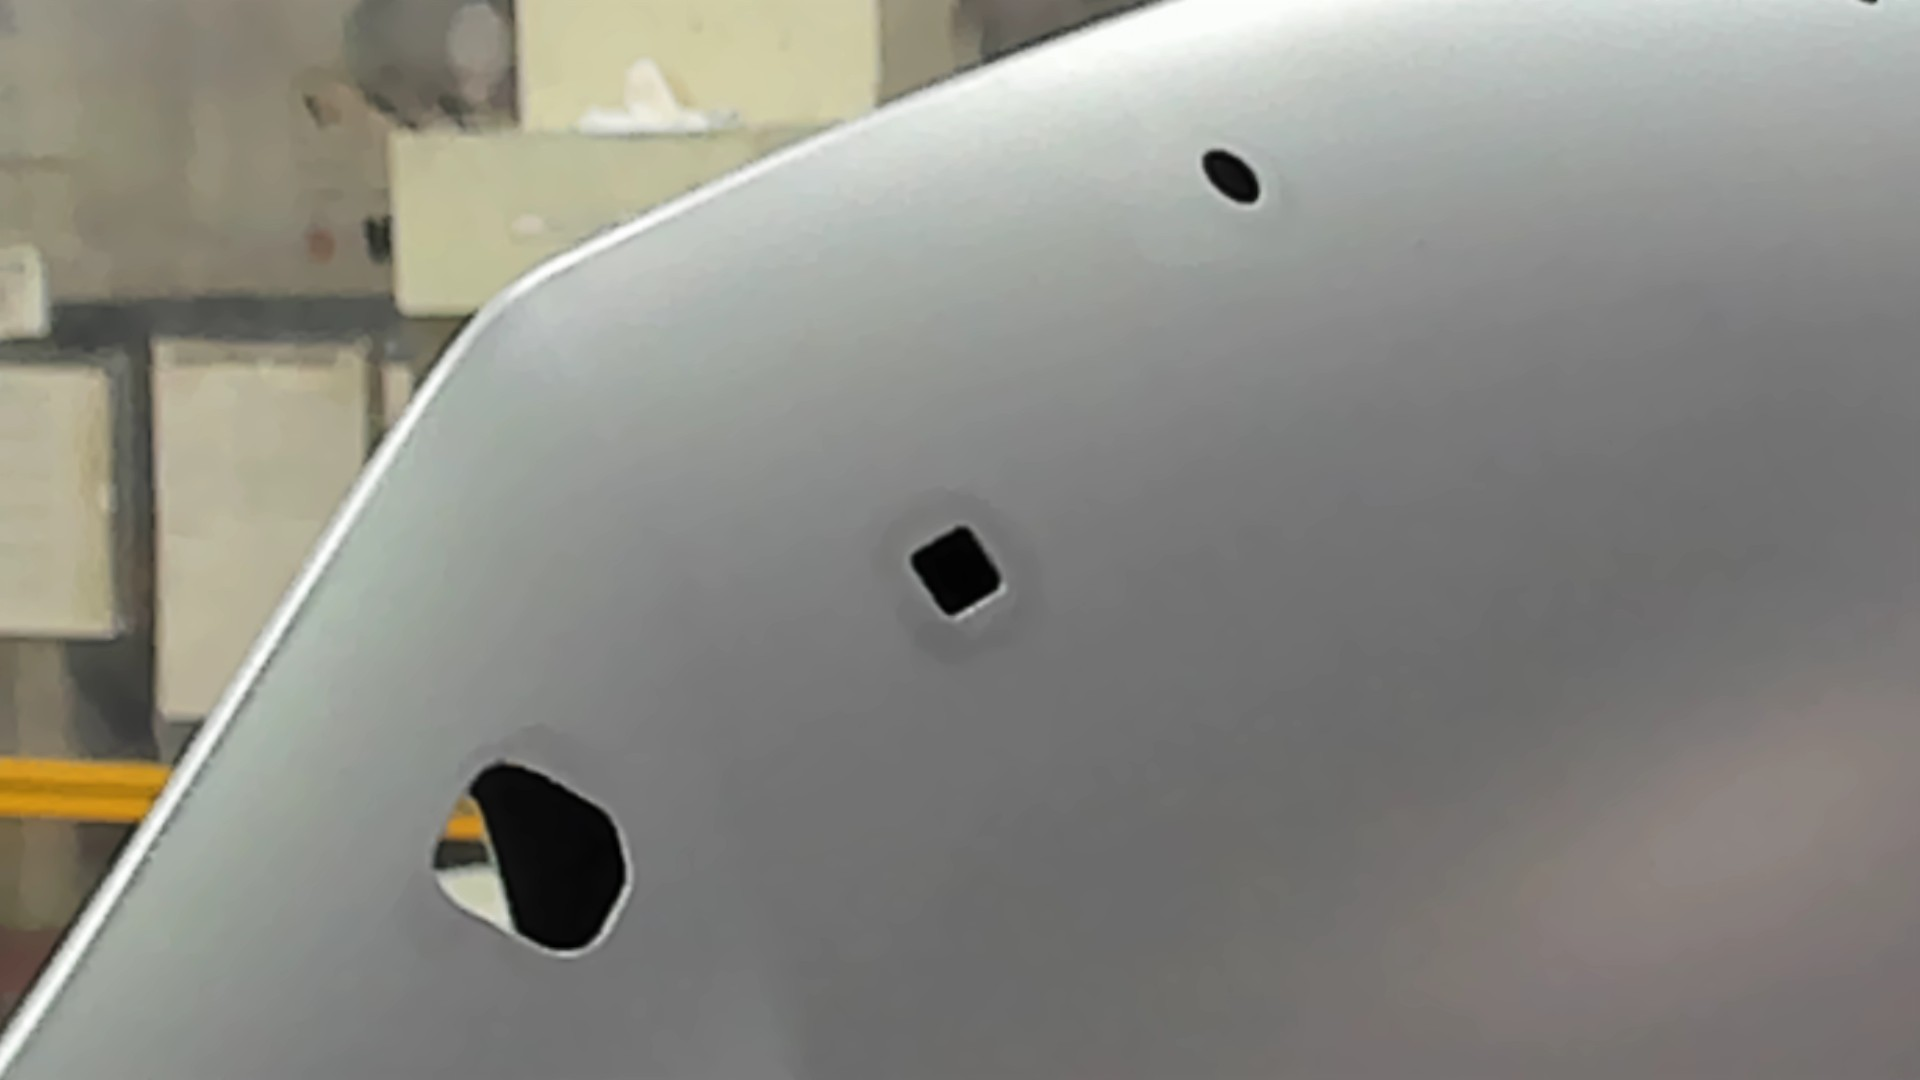chico: (1193, 140, 1266, 214)
grande: (427, 756, 637, 964)
mediano: (899, 517, 1010, 629)
